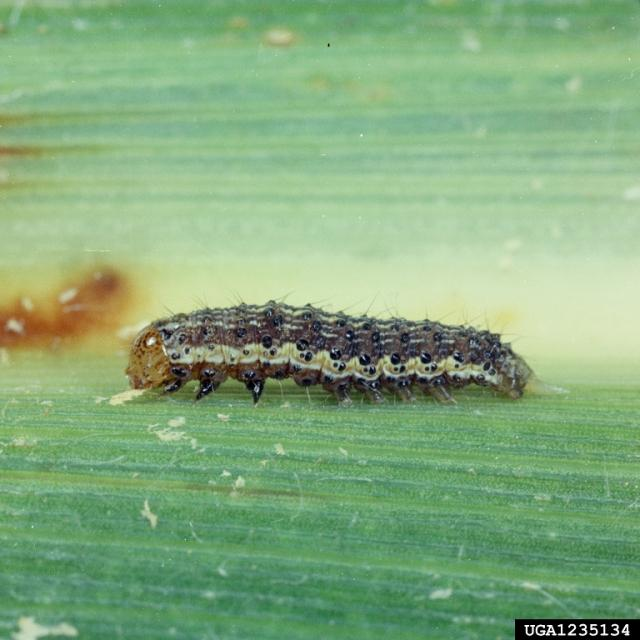Corn-earworm: (122, 300, 547, 423)
